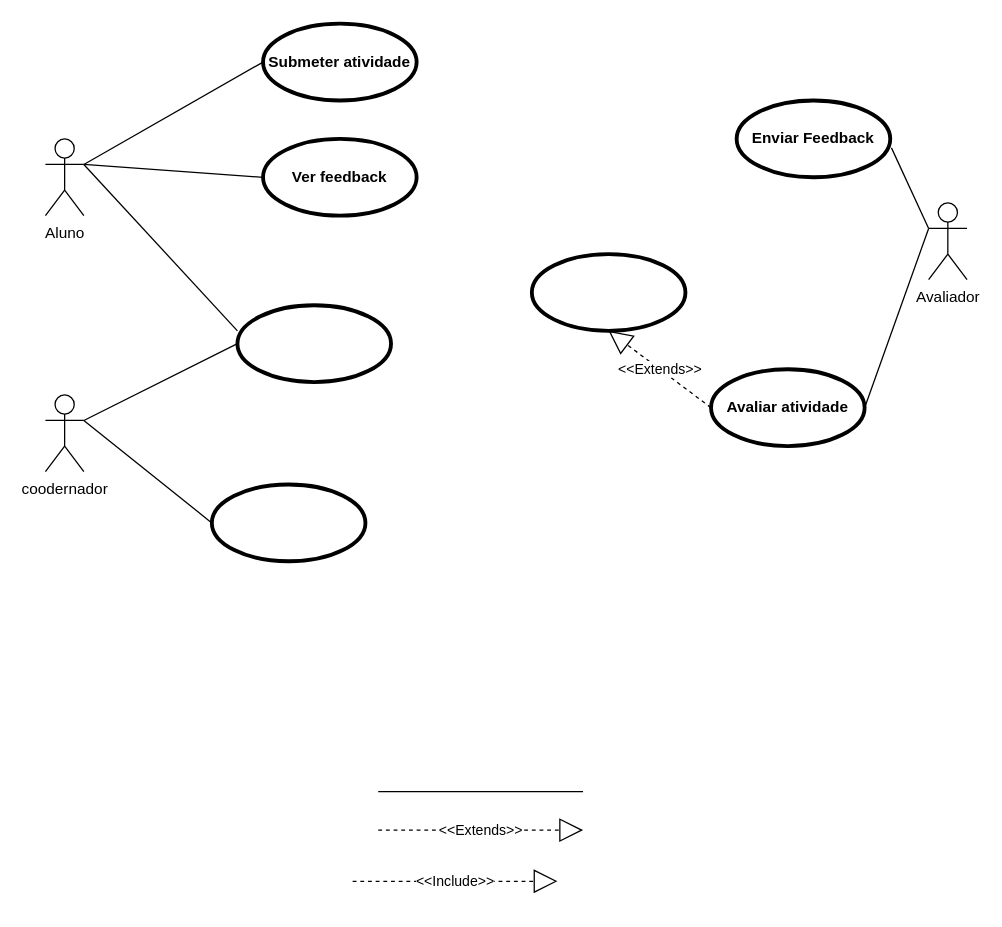
Some shapes in this 1002 by 927 pixel diagram are drawn without their labels. The box of each missing label's shape, as (x1, y1, x2, y2) in pixels:
Consultar progresso: (235, 303, 392, 383)
Gerenciar projetos/categorias: (209, 482, 367, 563)
Solicitar Correção: (529, 252, 687, 332)
